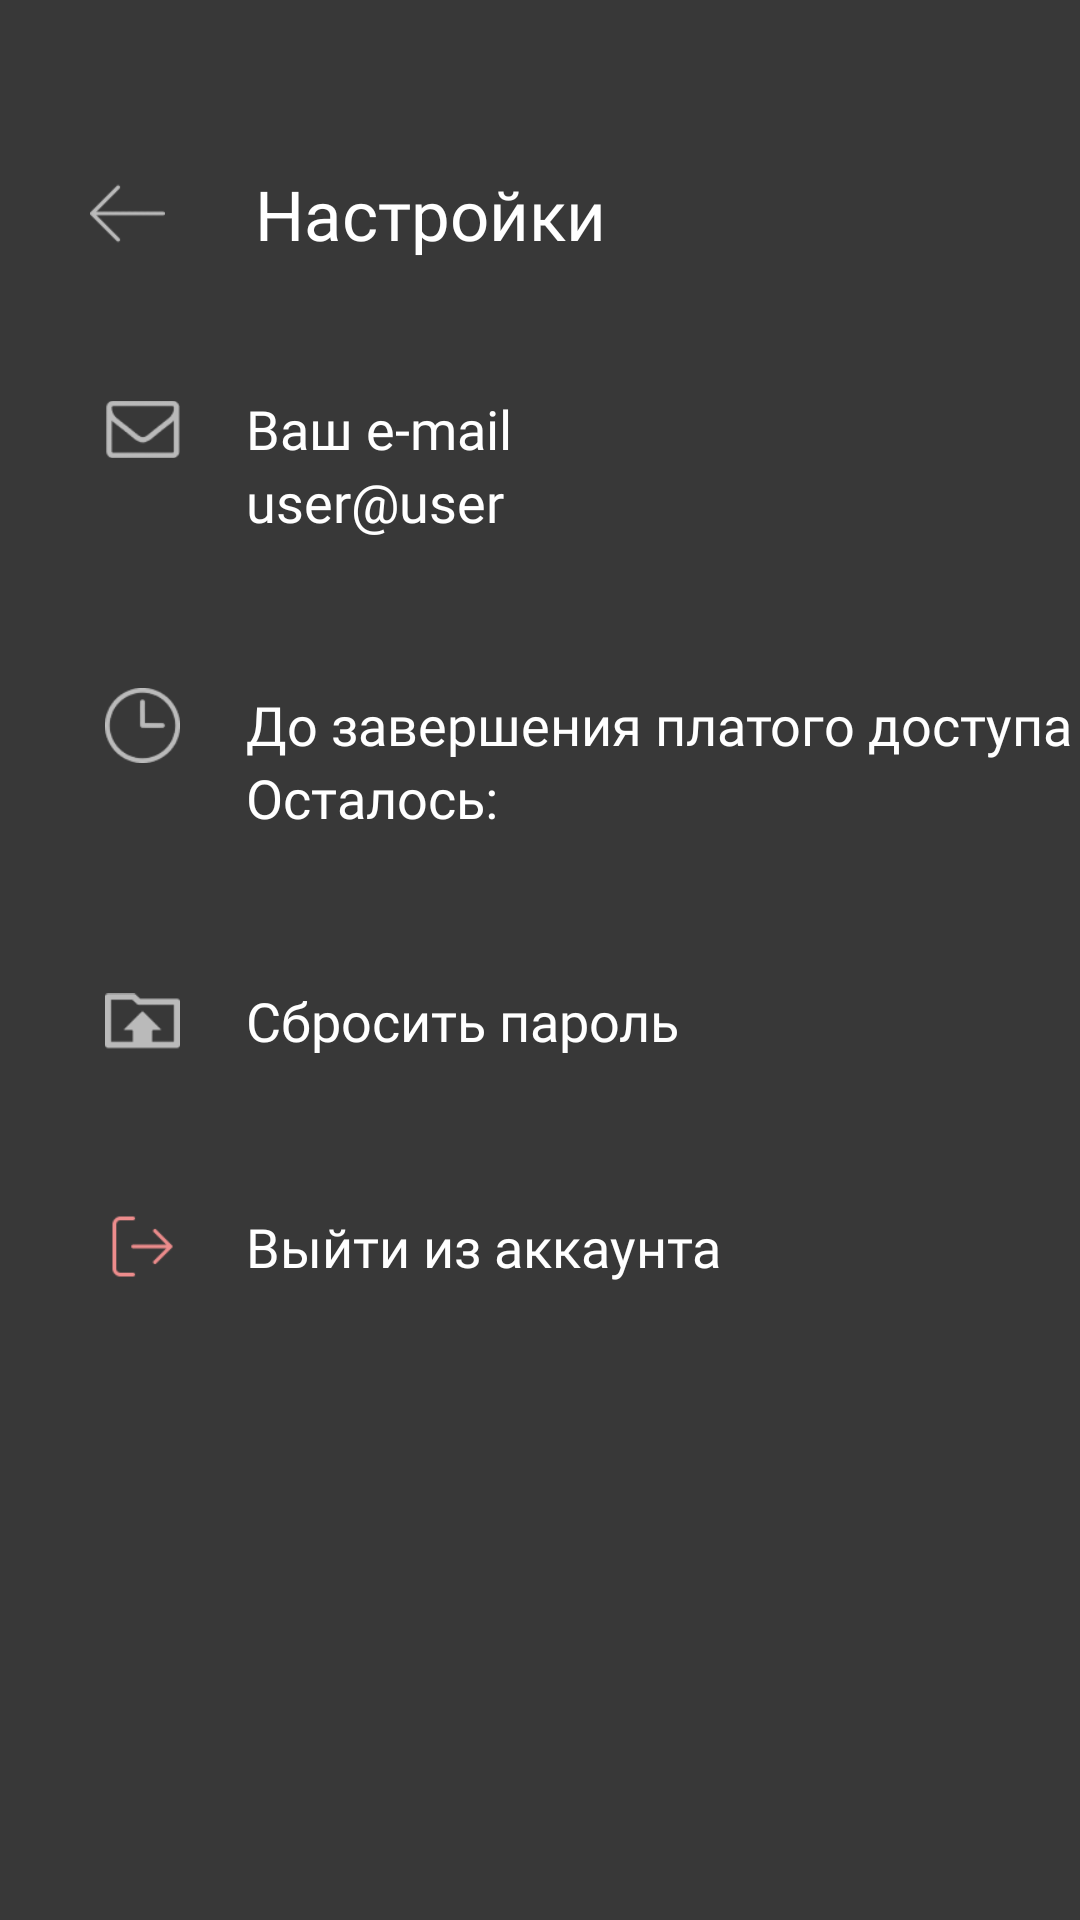

Icon bounding boxes for this 1080px x 1920px phone screenshot, format (x1, y1, x2, y2):
back: (90, 185, 165, 242)
clock: (105, 688, 180, 763)
exit: (112, 1216, 173, 1277)
letter: (106, 401, 180, 458)
